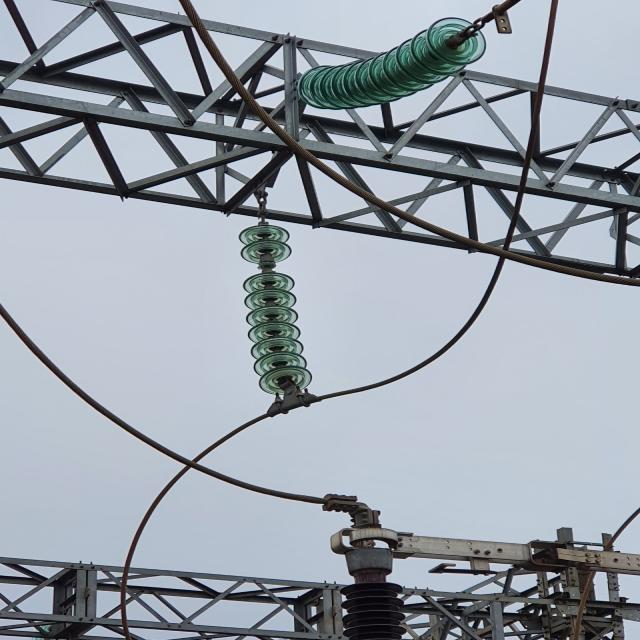杆塔: (0, 0, 640, 293), (0, 533, 640, 640)
正常绝缘子: (290, 11, 498, 118), (234, 200, 325, 412)
绝缘子破损: (254, 260, 278, 270)
